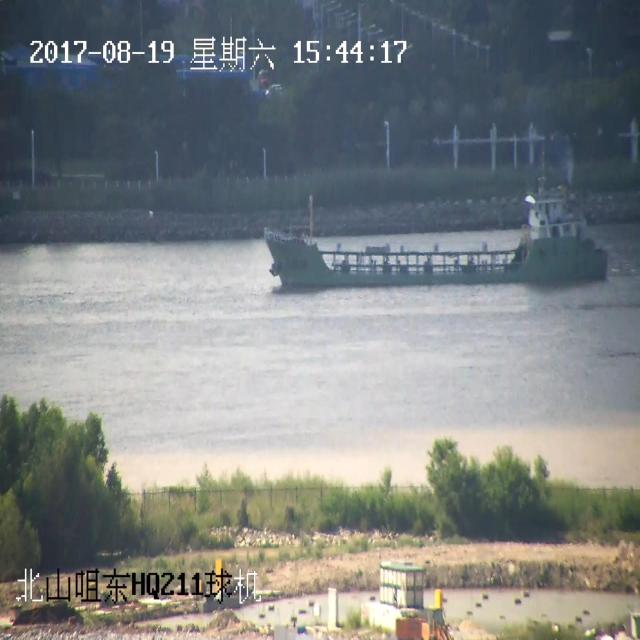houseboat: (239, 175, 607, 287)
